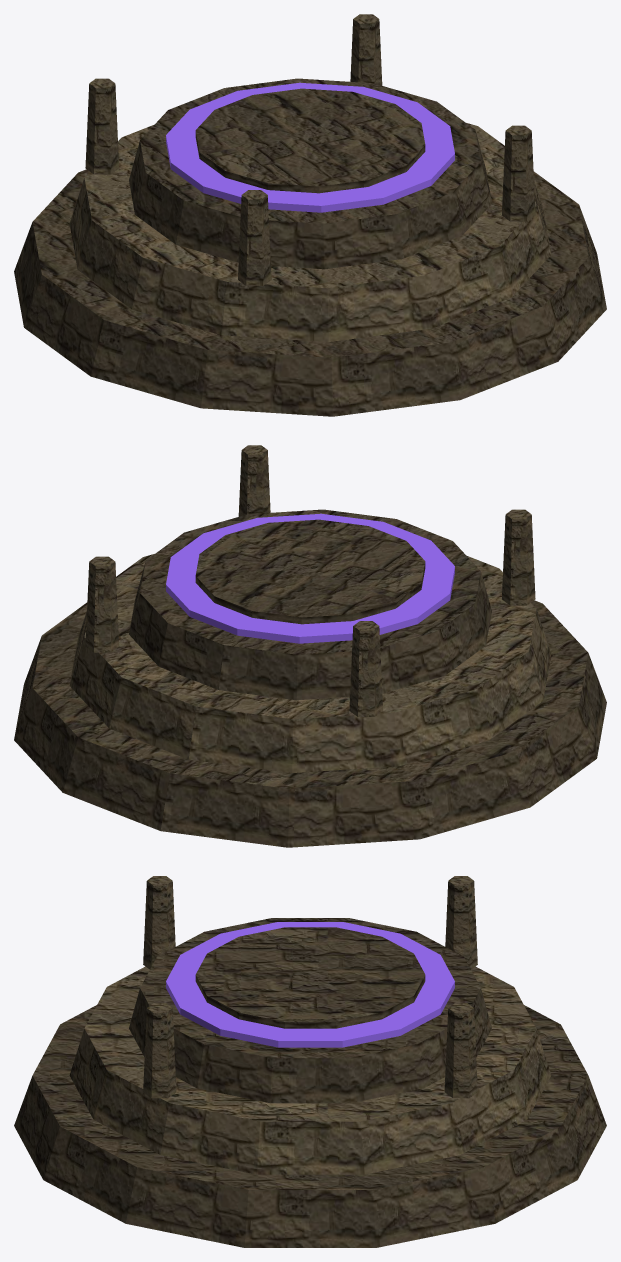
File: altar_base_01.glb
3 views of the same model, one above another, from view 1: azimuth 30°, elevation 25°; view 2: azimuth 150°, elevation 25°; view 3: azimuth 270°, elevation 25° (orthographic).
Visible parts, largest first — view 1: altar_base_01; view 2: altar_base_01; view 3: altar_base_01.
Boxes of the visible parts, <box> form: altar_base_01: <box>14,14,606,416</box>; altar_base_01: <box>14,445,606,847</box>; altar_base_01: <box>14,876,606,1247</box>.
Size of the model in its own units: 3.12 by 1.08 by 3.2.
Materials: 3 (3 with a texture image).
